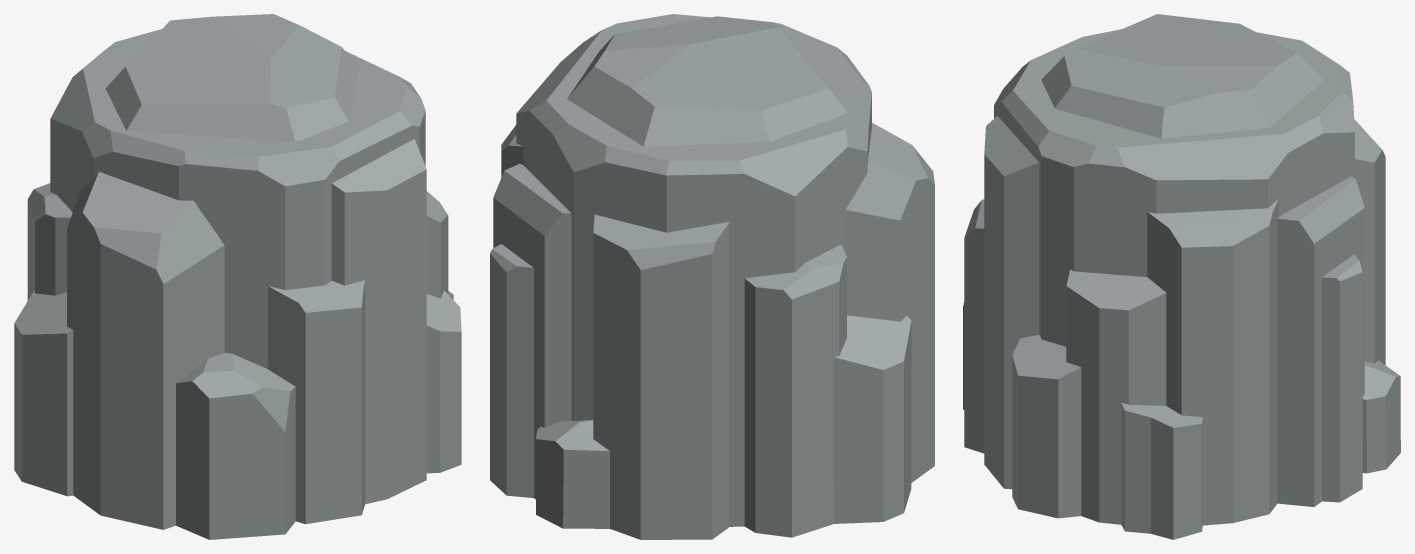
File: NHP_Rock_Pillar_Round_A1_01.fbx
The picture shows the model from 3 angles, left to right: view 1: azimuth 30°, elevation 25°; view 2: azimuth 150°, elevation 25°; view 3: azimuth 270°, elevation 25°; orthographic projection. The views are drawn at different scales.
Parts seen in each view (by area): view 1: NHP_Rock_Pillar_Round_A1_01; view 2: NHP_Rock_Pillar_Round_A1_01; view 3: NHP_Rock_Pillar_Round_A1_01.
Boxes of the visible parts, x1,y1,x2,y2 form: NHP_Rock_Pillar_Round_A1_01: [14, 14, 461, 539]; NHP_Rock_Pillar_Round_A1_01: [490, 14, 934, 539]; NHP_Rock_Pillar_Round_A1_01: [963, 14, 1400, 539].
Size of the model in its own units: 4.82 by 4.3 by 4.43.
